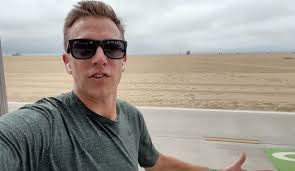earphone: (62, 53, 73, 75), (120, 53, 127, 72)
